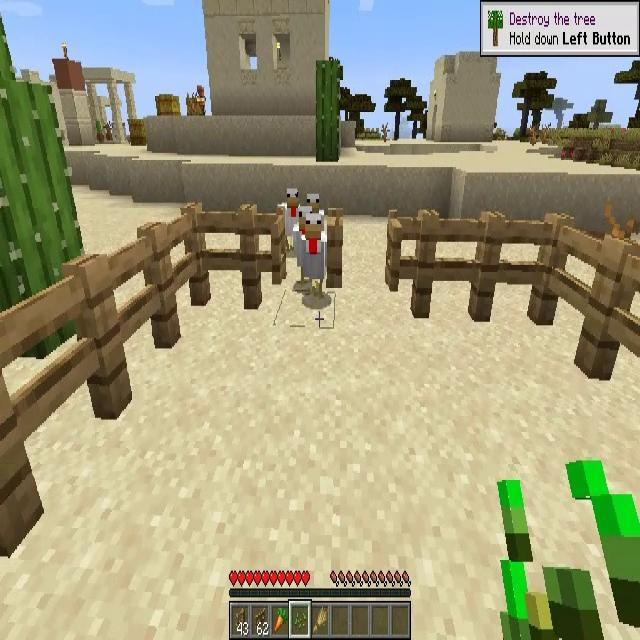duck: (295, 211, 327, 291), (280, 188, 303, 248), (301, 192, 323, 250)
